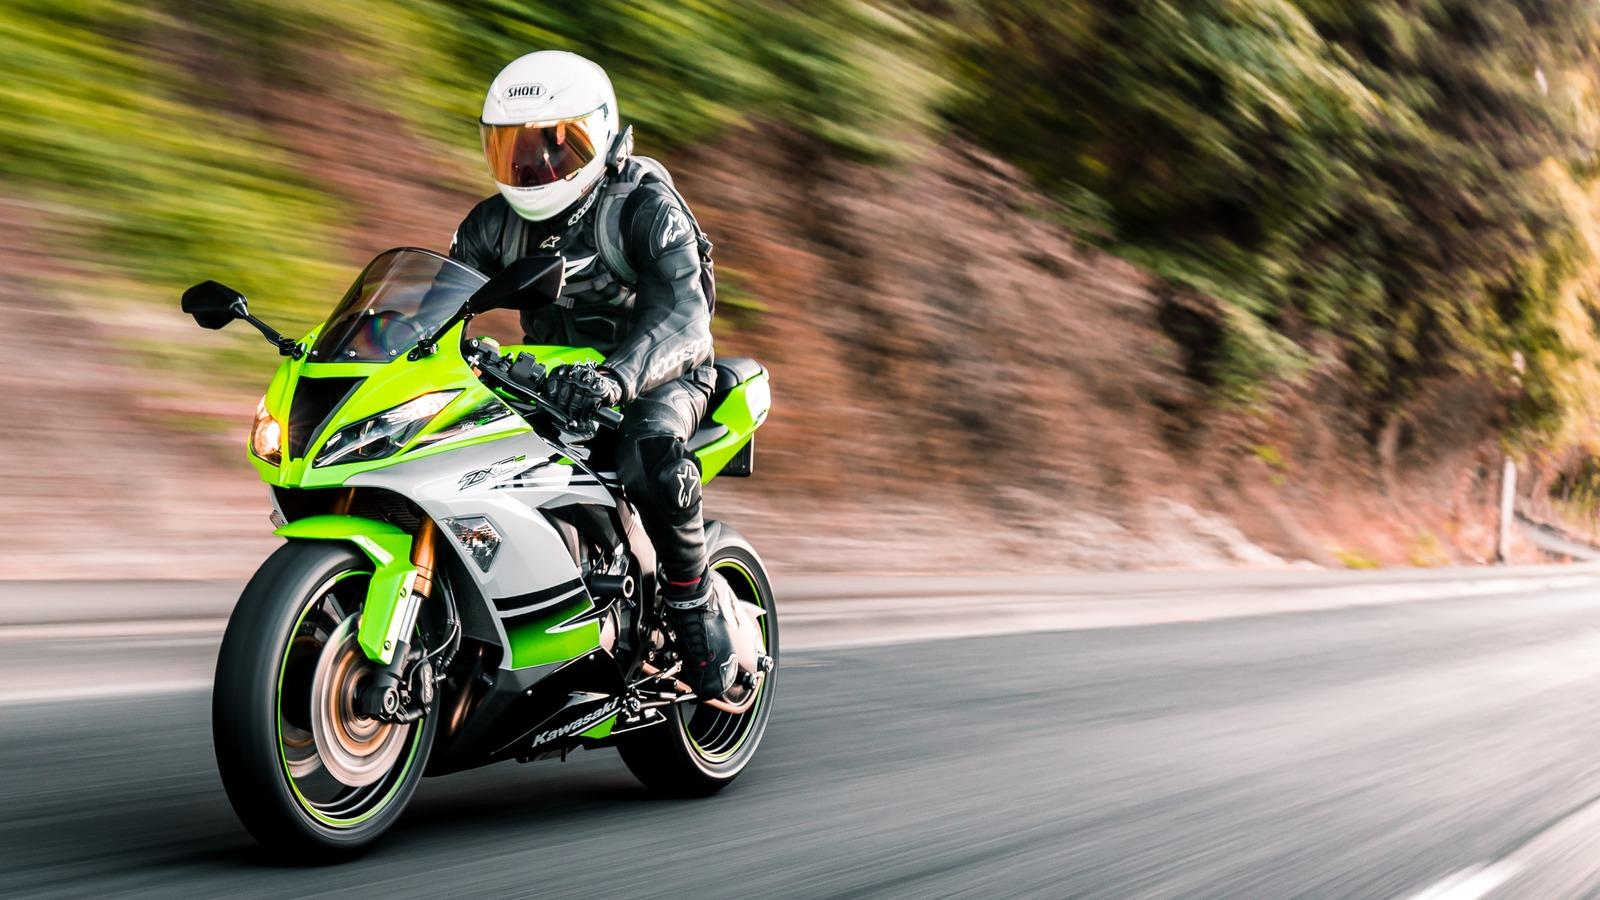motorcycle: (153, 237, 807, 862)
